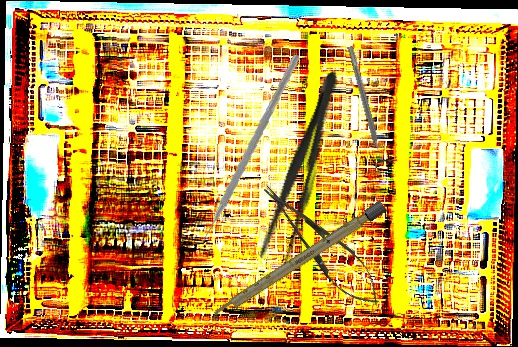Chopper: (169, 54, 315, 248)
Dressing Forceps: (251, 65, 350, 285)
Fixation Ring: (340, 43, 394, 169)
Needle Holder: (252, 174, 392, 316)
Scalpel Handle: (207, 200, 388, 323)
